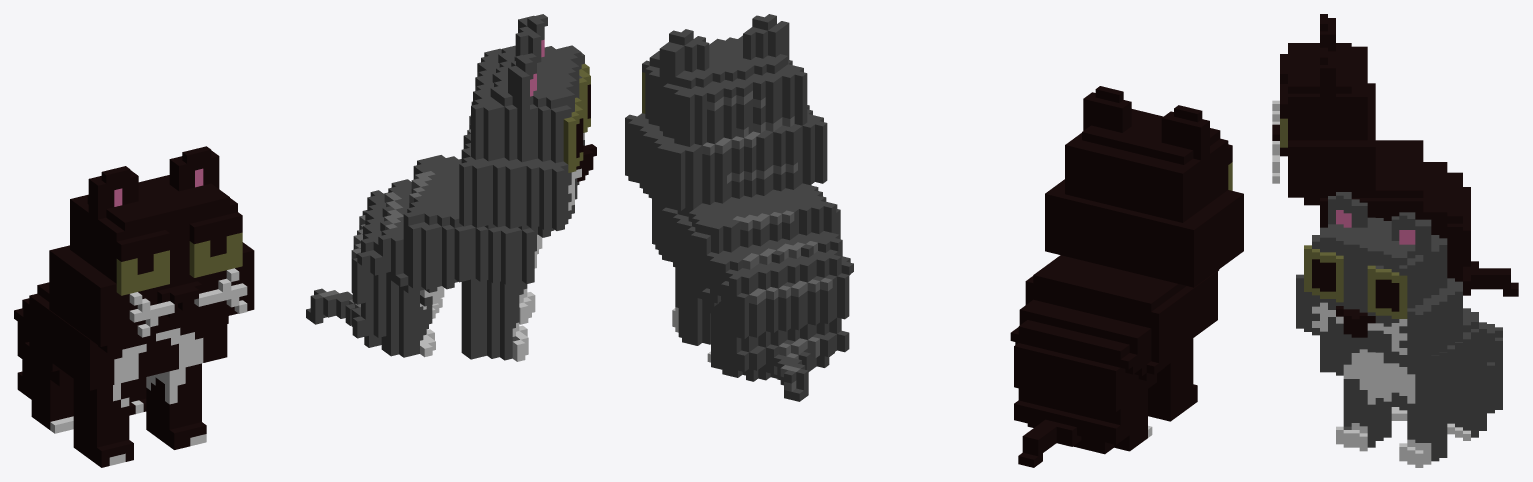
The model's file is cats.glb.
3 renders of one model, left to right at view 1: azimuth 30°, elevation 25°; view 2: azimuth 150°, elevation 25°; view 3: azimuth 270°, elevation 25°, orthographic. The views are drawn at different scales.
Visible parts, largest first — view 1: Untitled; view 2: Untitled; view 3: Untitled.
Part boxes in pixels (x1,y1,x2,y2): Untitled: (14,14,596,467); Untitled: (625,14,1243,467); Untitled: (1272,14,1518,467).
Bounding box in the file's own units: 6.9 × 3.5 × 3.1.
Materials: 1 (1 with a texture image).
